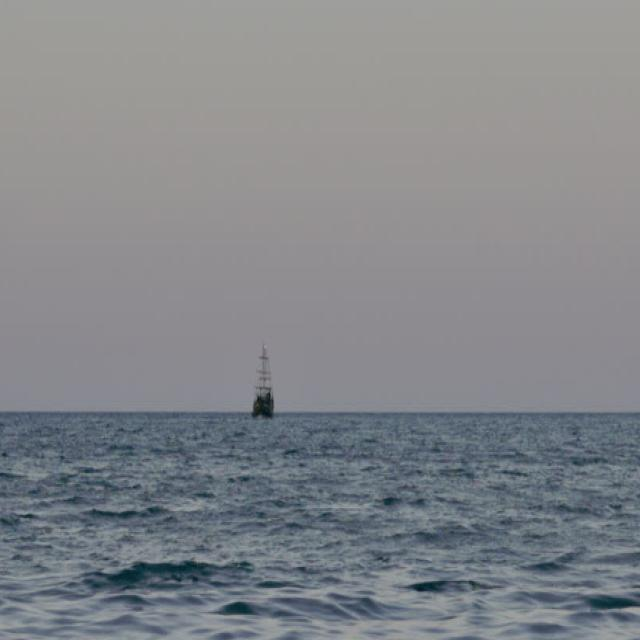fishing boat: (252, 338, 286, 421)
